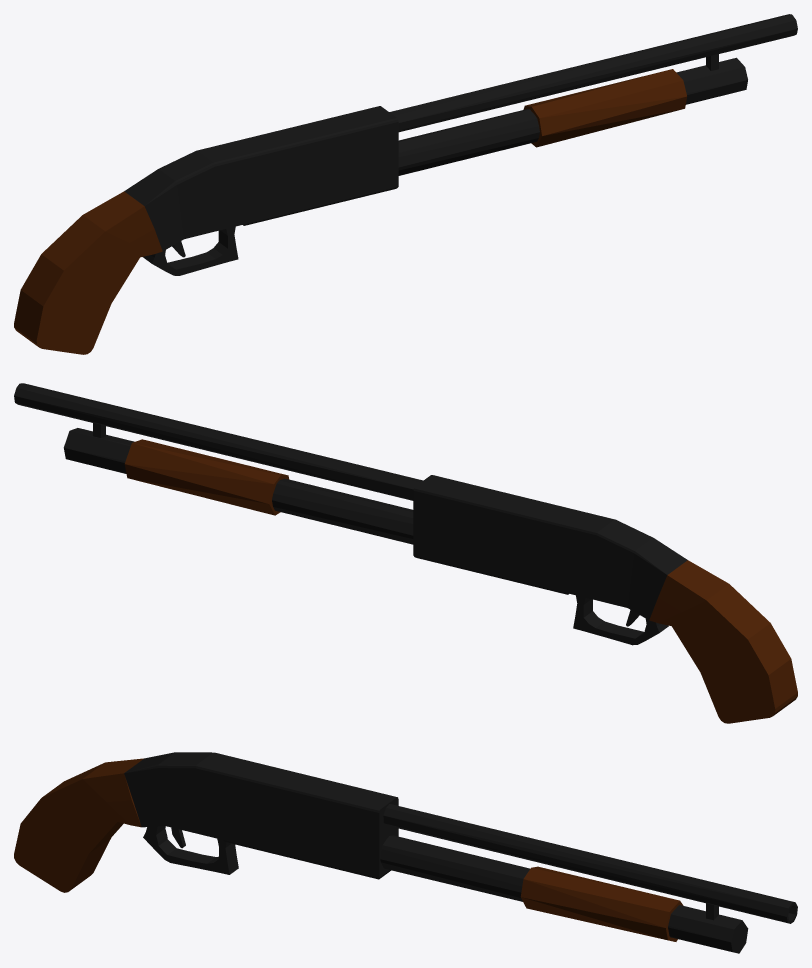
Rendered from Shotgun.fbx.
The picture shows the model from 3 angles, top to bottom: view 1: azimuth 30°, elevation 25°; view 2: azimuth 150°, elevation 25°; view 3: azimuth 330°, elevation 25°; orthographic projection.
Visible parts, largest first — view 1: Stock, Barrel, Magazine, Pump, TriggerGuard; view 2: Stock, Barrel, Magazine, Pump, TriggerGuard; view 3: Stock, Barrel, Magazine, Pump, TriggerGuard.
Boxes of the visible parts, x1,y1,x2,y2 form: Stock: [14, 106, 398, 354]; Barrel: [389, 14, 797, 132]; Magazine: [398, 57, 747, 175]; Pump: [523, 69, 687, 147]; TriggerGuard: [143, 226, 238, 275]; Stock: [413, 475, 797, 723]; Barrel: [14, 383, 422, 500]; Magazine: [63, 428, 413, 544]; Pump: [124, 439, 289, 515]; TriggerGuard: [573, 595, 668, 645]; Stock: [14, 752, 398, 892]; Barrel: [383, 804, 797, 923]; Magazine: [380, 835, 748, 953]; Pump: [520, 866, 683, 941]; TriggerGuard: [143, 826, 238, 874].
Bounding box in the file's own units: 976 × 192 × 50.15.
